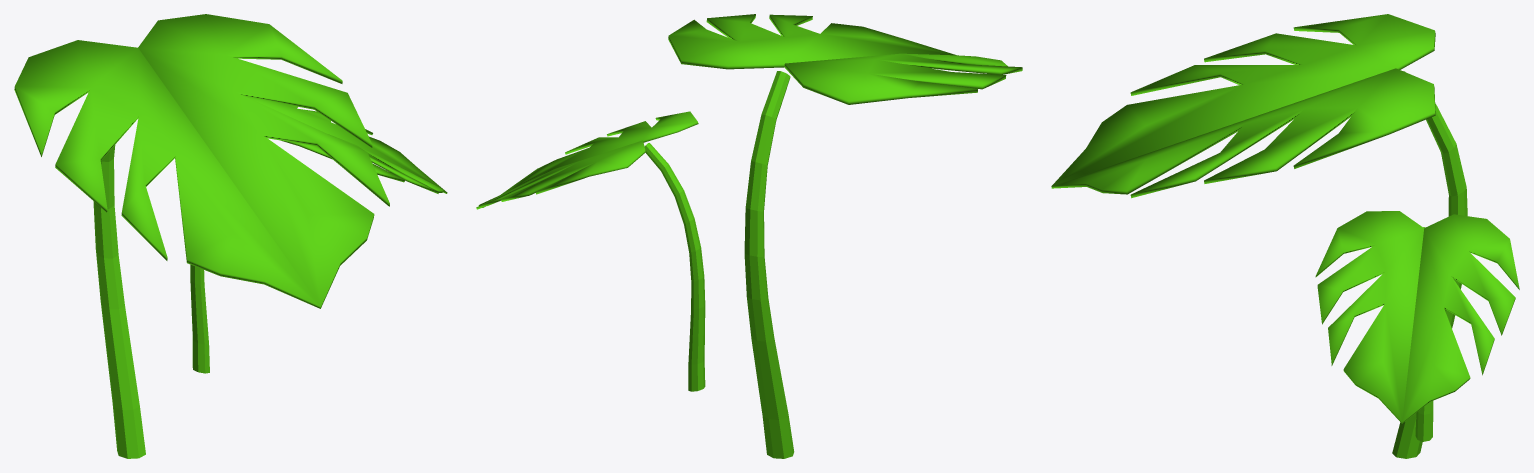
File: Monstera_peq.fbx
The picture shows the model from 3 angles, left to right: view 1: azimuth 30°, elevation 25°; view 2: azimuth 150°, elevation 25°; view 3: azimuth 270°, elevation 25°; orthographic projection. The views are drawn at different scales.
Parts seen in each view (by area): view 1: Monstera_pe; view 2: Monstera_pe; view 3: Monstera_pe.
Boxes of the visible parts, x1,y1,x2,y2 form: Monstera_pe: (14, 14, 447, 458); Monstera_pe: (476, 14, 1022, 458); Monstera_pe: (1051, 14, 1519, 458).
Size of the model in its own units: 249 by 212 by 231.
